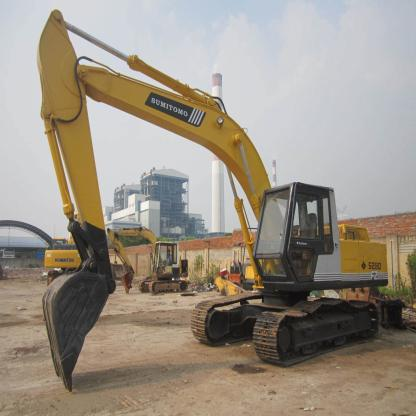excavator: (31, 5, 406, 407)
